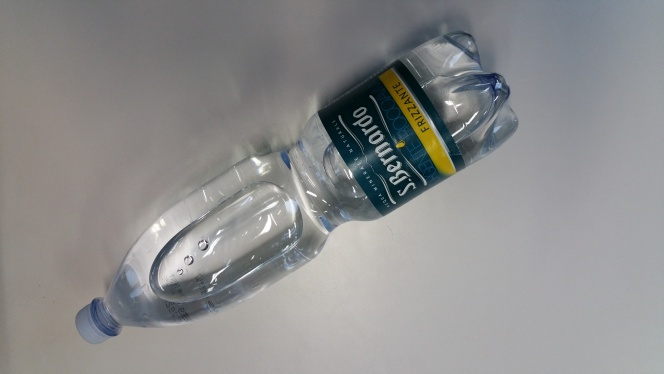bottle: (72, 35, 519, 350)
